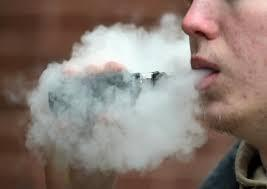smoker: (53, 0, 248, 189)
